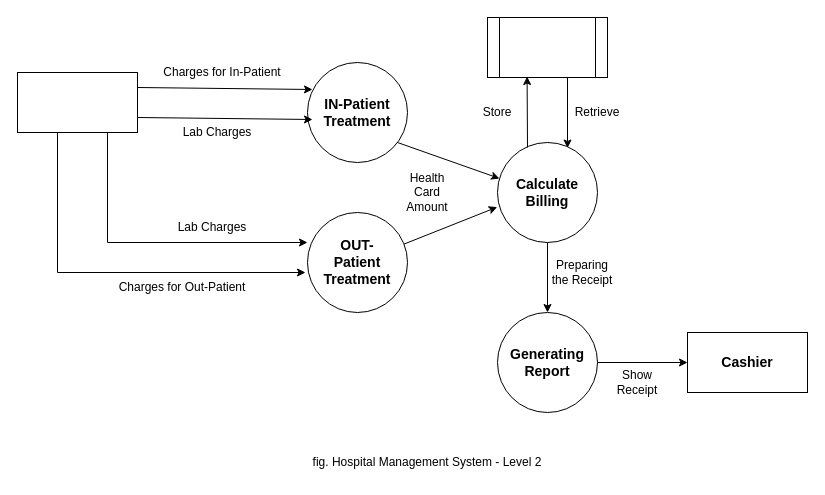
The diagram is 825 pixels wide and 495 high, and some of its shapes have lost their labels. Each missing label, with the centre of its shape:
Billing Database: (x=547, y=47)
Staff / Doctor: (x=77, y=102)
